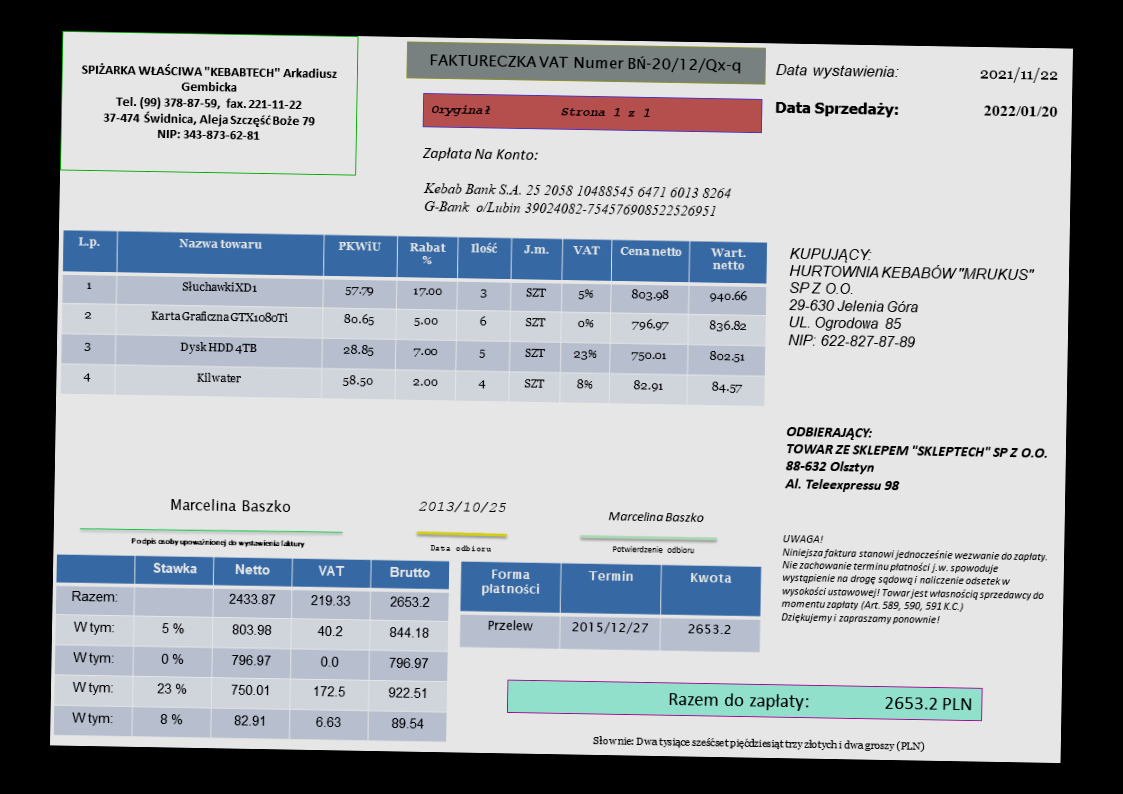Table: (59, 226, 770, 407), (52, 554, 451, 743), (458, 560, 762, 653)
TextBox: (784, 243, 1037, 353), (779, 531, 1048, 630), (77, 58, 338, 145), (782, 422, 1050, 497), (422, 178, 733, 220), (425, 50, 743, 77), (666, 688, 972, 715), (590, 731, 927, 754), (428, 100, 654, 123), (773, 97, 903, 121), (128, 535, 307, 551), (773, 60, 900, 82), (420, 143, 542, 164), (168, 496, 291, 515), (975, 64, 1061, 85), (607, 509, 706, 526), (416, 498, 510, 515), (980, 102, 1061, 120), (611, 543, 696, 556), (429, 541, 493, 554)
